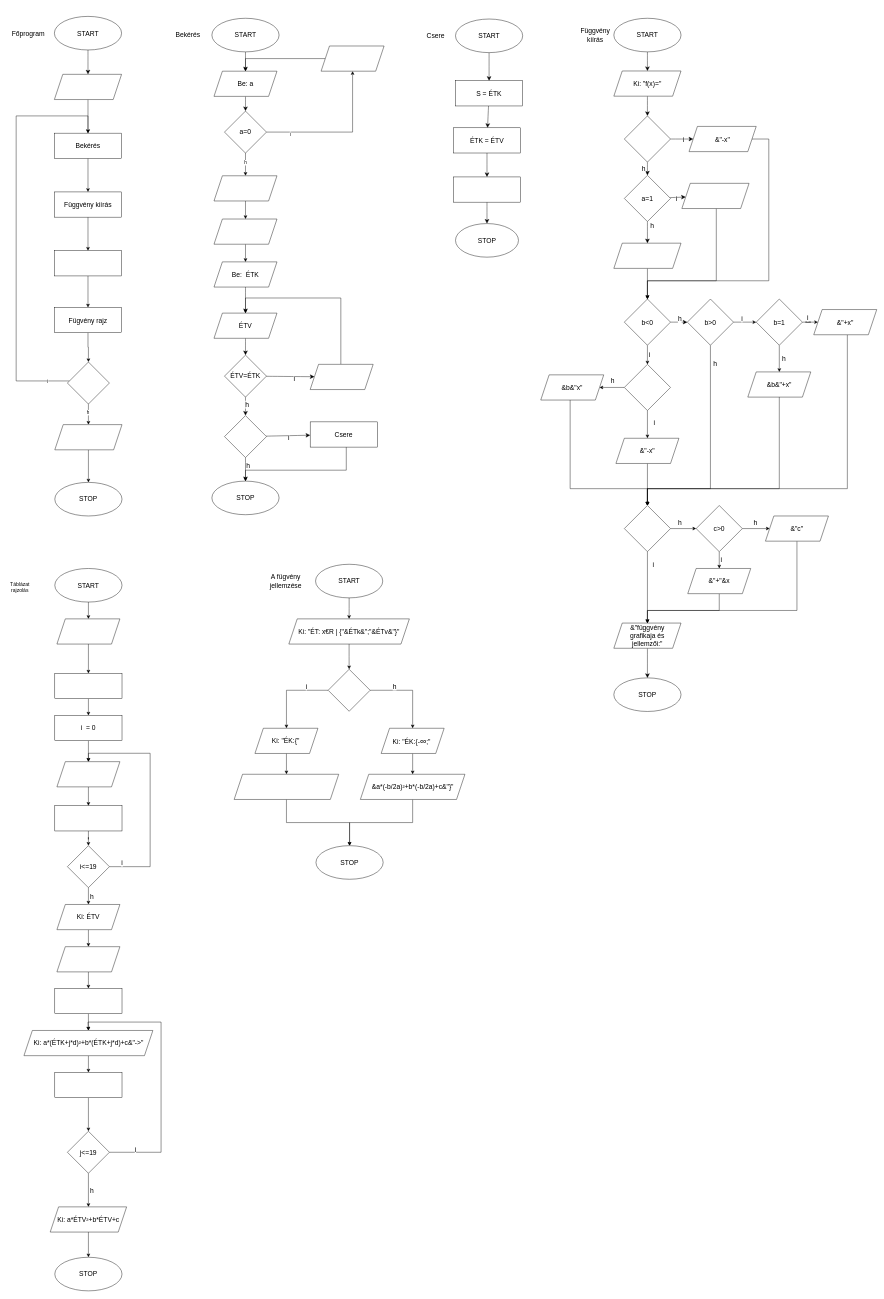
This 884x1299 diagram has some shape labels left out. Each missing label, with the centre of its shape:
&""x": point 715,196
&a&"x": point 647,255
&a*(-b/2a)²+b*(-b/2a)+c&"; ∞ } ": point 286,786
a=-1: point 647,139
a>0: point 349,690
b=-1: point 647,387
Be: b: point 245,188
Be: c: point 245,231
c=0: point 647,528
D = (ÉTV - ÉTK)/20: point 88,686
Folytatja?: point 88,383
i = i+1: point 88,818
j=0: point 88,1001
j=j+1: point 88,1085
Ki: "x:->: point 88,631
Ki: "y: ->": point 88,959
Ki: Elköszönés: point 88,437
Ki: hibaüzenet: point 352,58
Ki: hibás: point 341,377
Ki: ÉTK+i*d&"->": point 88,774
Ki: Üdvözlés: point 88,87
Táblázat kiírás: point 88,263
ÉTV = S: point 487,189
ÉTV>ÉTK: point 245,436
